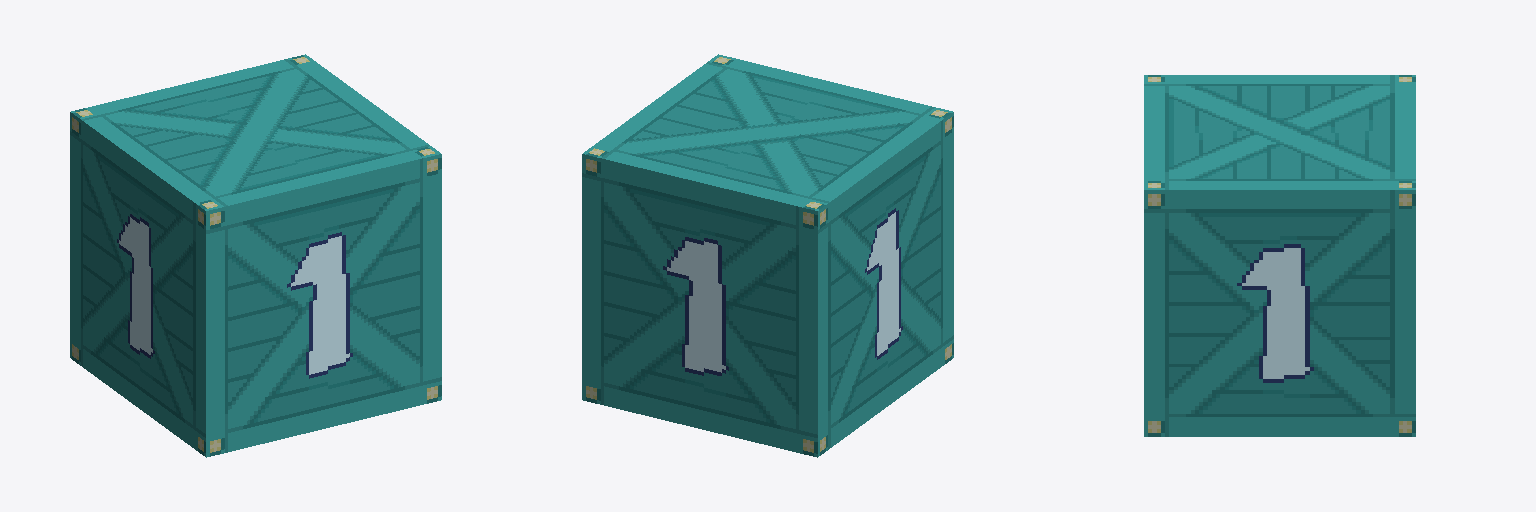
3 views of the same model, side by side, from view 1: azimuth 30°, elevation 25°; view 2: azimuth 150°, elevation 25°; view 3: azimuth 270°, elevation 25° (orthographic).
Parts seen in each view (by area): view 1: Cube.002; view 2: Cube.002; view 3: Cube.002.
Boxes of the visible parts, <box> form: Cube.002: <box>70,54,441,457</box>; Cube.002: <box>582,54,953,457</box>; Cube.002: <box>1144,75,1415,436</box>.
Size of the model in its own units: 3.24 by 3.24 by 3.24.
1 materials, 1 textured.